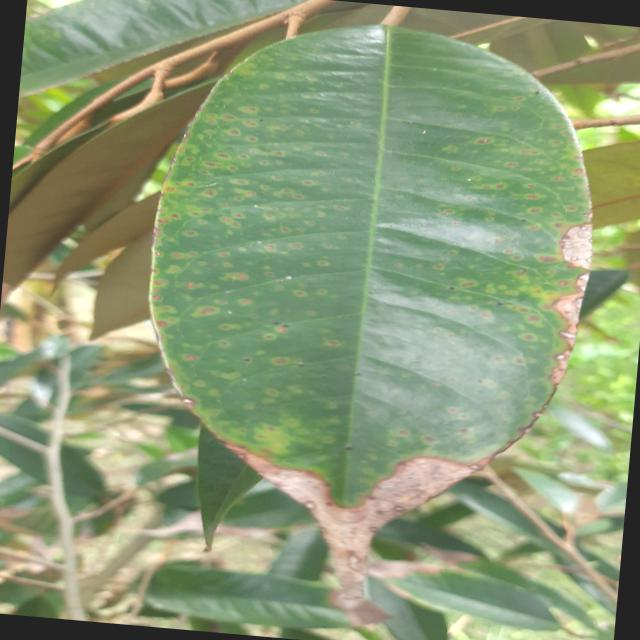Leaf Spot: (118, 0, 620, 636)
